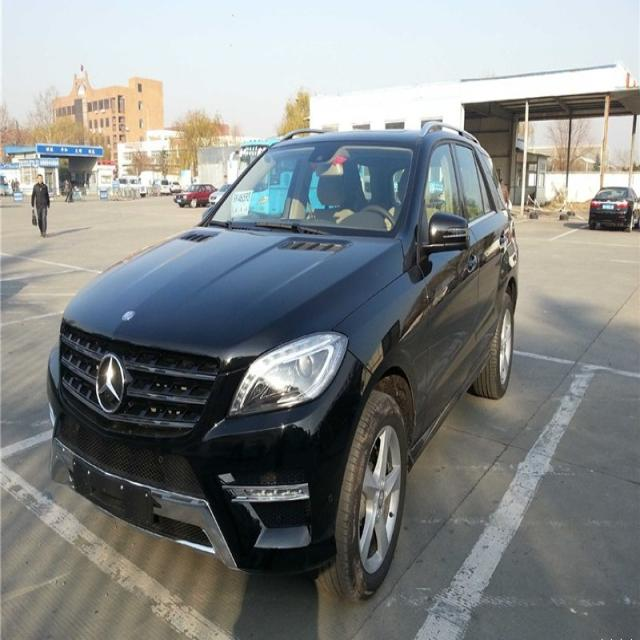door: (455, 151, 502, 370)
front_bumper: (18, 380, 369, 590)
front_glass: (204, 136, 422, 238)
front_left_side_light: (226, 326, 351, 419)
front_left_side_mirror: (426, 202, 474, 272)
wheel: (322, 388, 411, 600), (463, 286, 514, 401)
